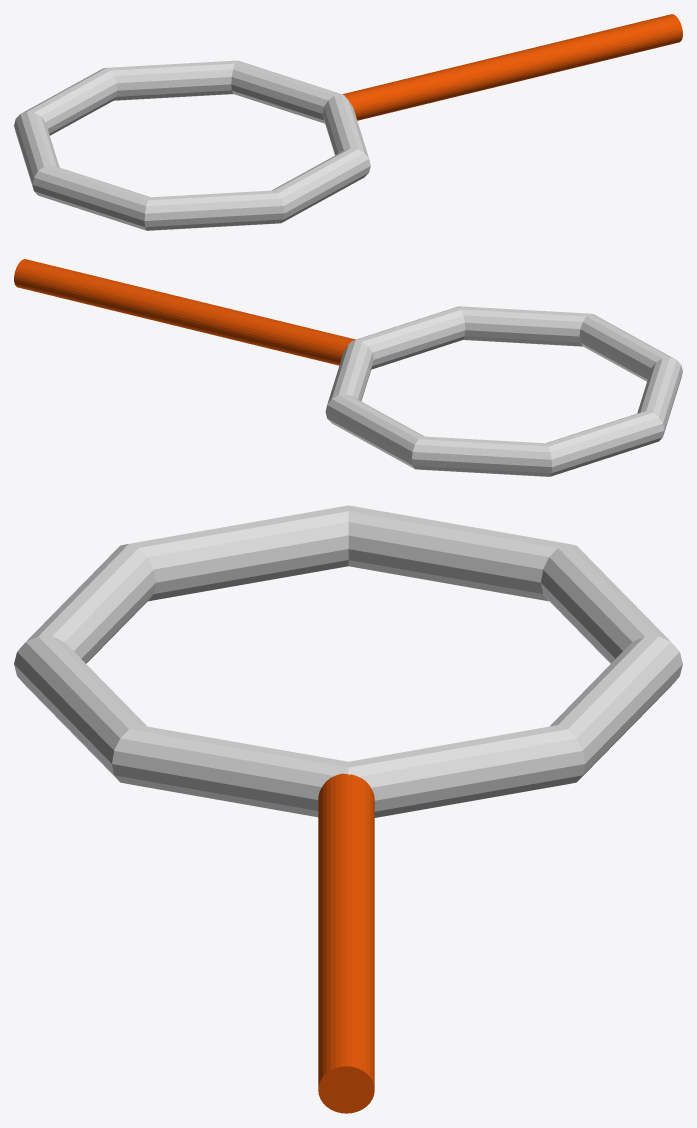
Rendered from Glassess.fbx.
3 views of the same model, one above another, from view 1: azimuth 30°, elevation 25°; view 2: azimuth 150°, elevation 25°; view 3: azimuth 270°, elevation 25° (orthographic). The views are drawn at different scales.
Parts seen in each view (by area): view 1: Torus.002, Cylinder; view 2: Torus.002, Cylinder; view 3: Torus.002, Cylinder.
Boxes of the visible parts, x1=… form: Torus.002: x1=14, y1=60, x2=370, y2=230; Cylinder: x1=342, y1=14, x2=682, y2=120; Torus.002: x1=325, y1=306, x2=682, y2=476; Cylinder: x1=14, y1=259, x2=355, y2=365; Torus.002: x1=14, y1=505, x2=682, y2=817; Cylinder: x1=318, y1=773, x2=374, y2=1113.
Bounding box in the file's own units: 474 × 21.45 × 236.
